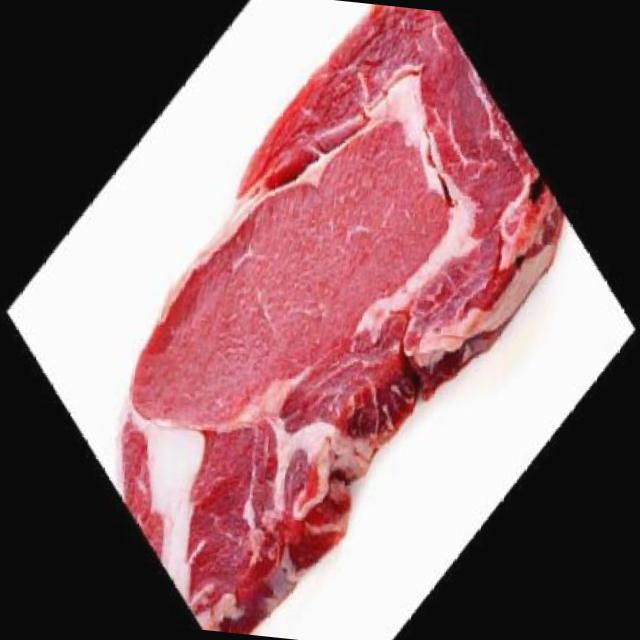beef: (33, 0, 601, 640)
